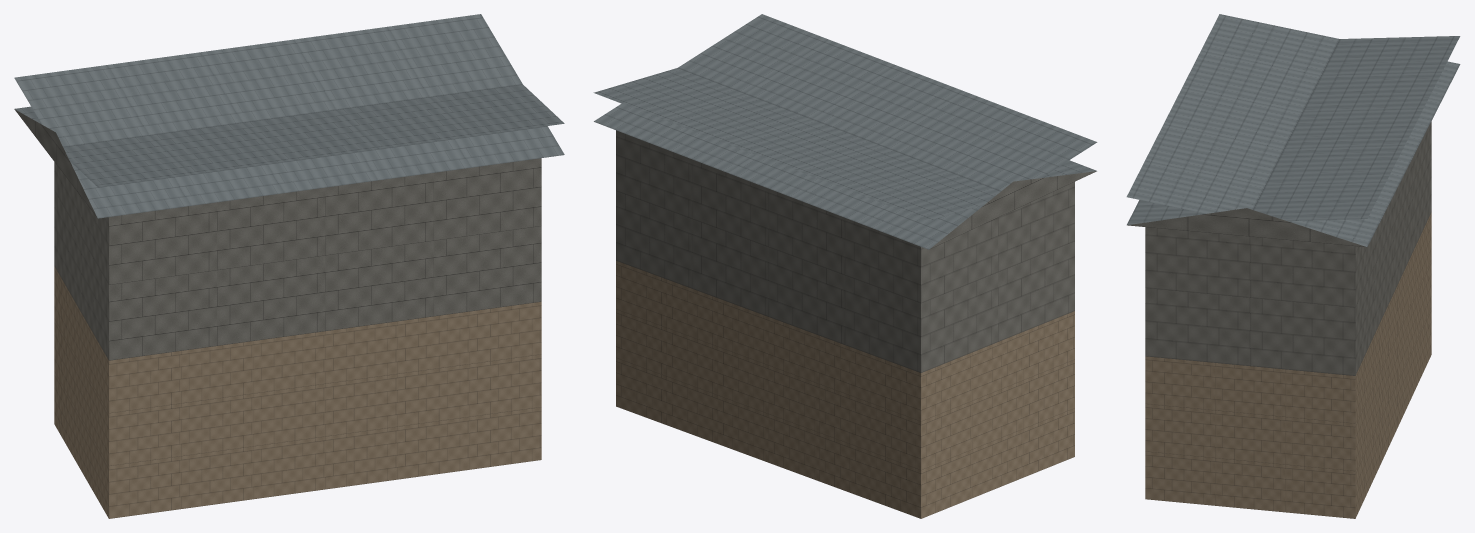
File: bld_c8_35_482.gltf
3 views of the same model, side by side, from view 1: azimuth 30°, elevation 25°; view 2: azimuth 150°, elevation 25°; view 3: azimuth 270°, elevation 25° (orthographic). The views are drawn at different scales.
Parts seen in each view (by area): view 1: bld_c8_35_482; view 2: bld_c8_35_482; view 3: bld_c8_35_482.
Boxes of the visible parts, x1,y1,x2,y2 form: bld_c8_35_482: (14,14,564,518); bld_c8_35_482: (593,14,1097,518); bld_c8_35_482: (1126,14,1460,518).
Bounding box in the file's own units: 15.57 × 10.9 × 10.72.
4 materials, 4 textured.
